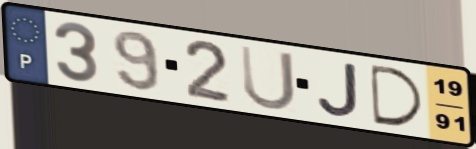2: (182, 38, 234, 106)
3: (51, 20, 100, 84)
9: (109, 28, 163, 93)
D: (367, 62, 428, 129)
J: (315, 60, 362, 120)
U: (237, 42, 299, 113)
